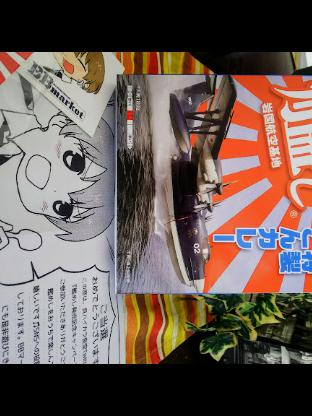Tu95: (159, 75, 237, 293)
